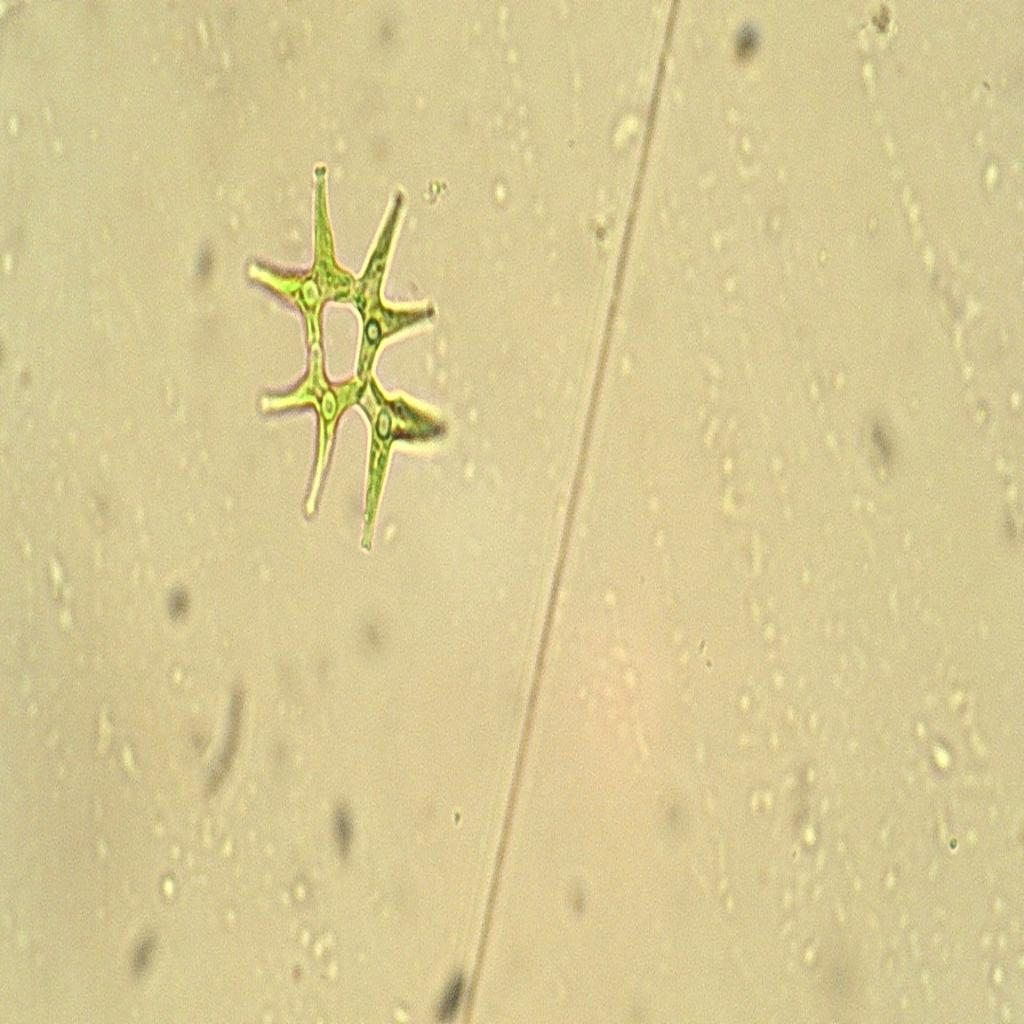Pediastrum_75FI: (239, 136, 462, 560)
